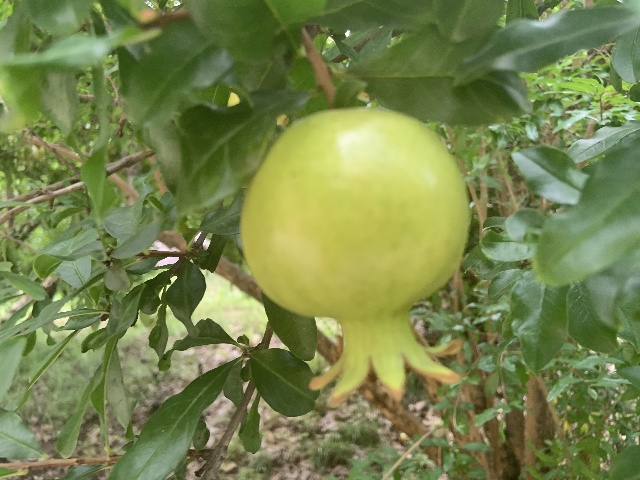mid-growth: (239, 107, 471, 408)
